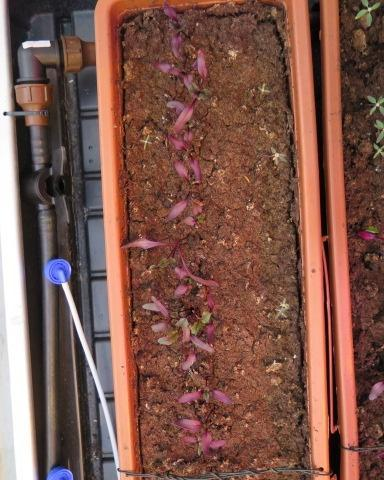weed: (137, 131, 152, 150)
